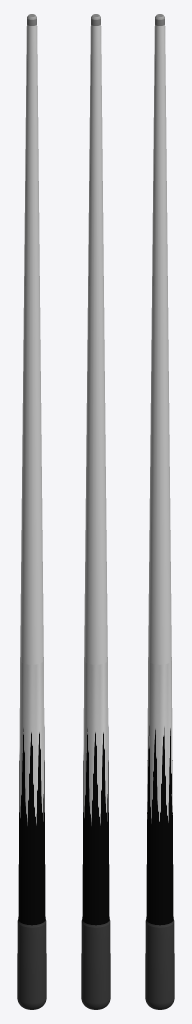
Rendered from poolCue.fbx.
The picture shows the model from 3 angles, left to right: view 1: azimuth 30°, elevation 25°; view 2: azimuth 150°, elevation 25°; view 3: azimuth 330°, elevation 25°; orthographic projection.
Parts seen in each view (by area): view 1: poolStick; view 2: poolStick; view 3: poolStick.
Part boxes in pixels (x1,y1,x2,y2): poolStick: (17,14,46,1009); poolStick: (81,14,110,1009); poolStick: (145,14,174,1009).
Bounding box in the file's own units: 0.0703 × 2.55 × 0.0692.
